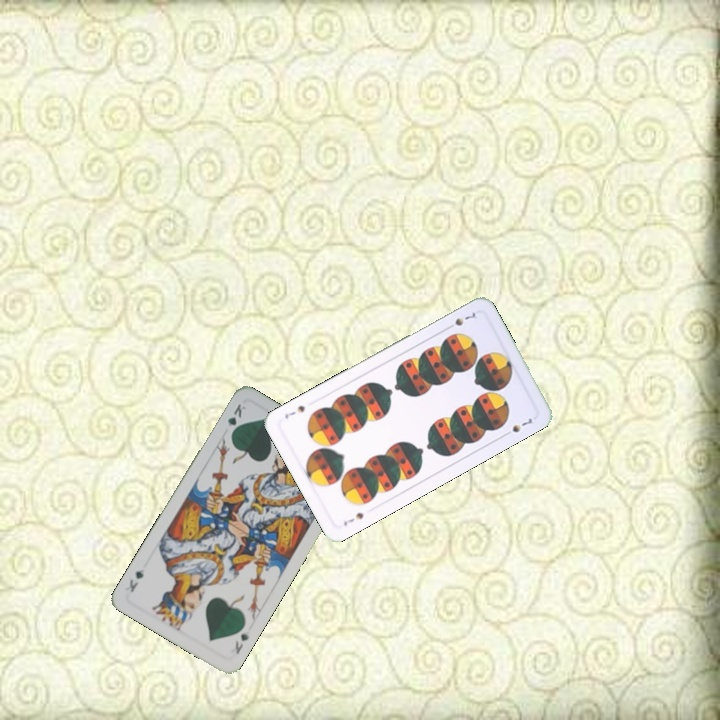GK: (223, 399, 248, 438), (231, 629, 252, 657)
S7: (442, 308, 478, 332), (339, 508, 366, 529)
